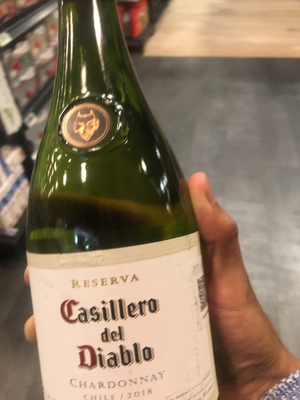casillero del diablo chardonnay: (22, 42, 234, 400)
